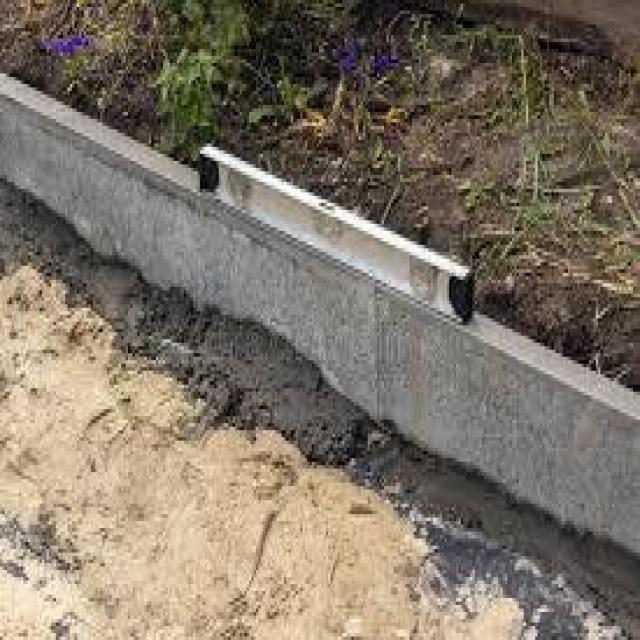curb: (403, 293, 640, 490), (214, 184, 405, 397), (2, 78, 201, 279)
